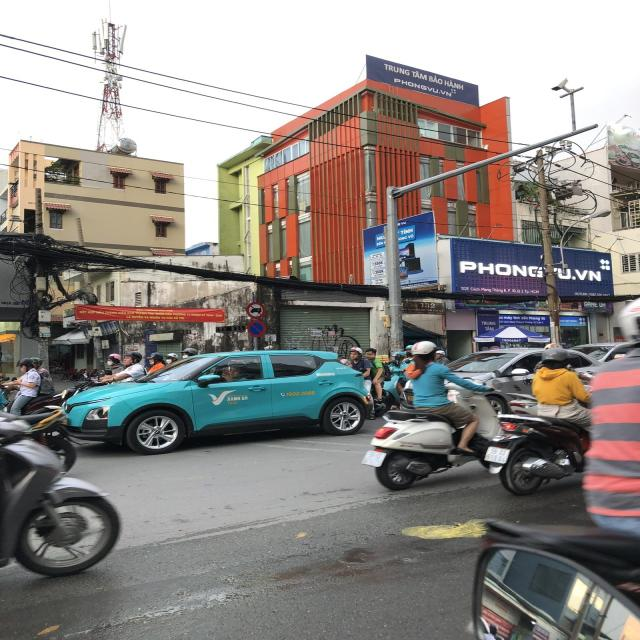Bien bao cam xe oto tai: (245, 300, 267, 319), (246, 319, 266, 339)
